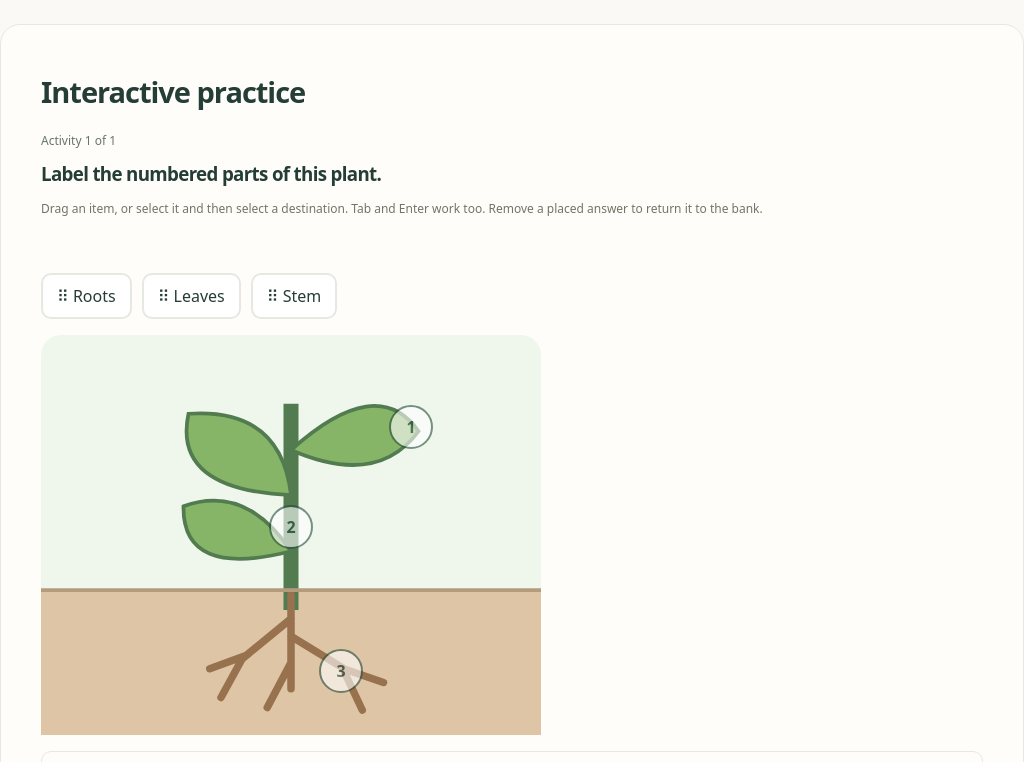
Scenario: reusable interactive practice › keeps diagram replacement available without showing placement prompts on filled labels
The width and height of the screenshot is (1024, 762).
What coordinates should you click on to do the following:
click the button "⠿ Leaves"
I would click on:
 (191, 296)
Its box is [142, 273, 241, 319].
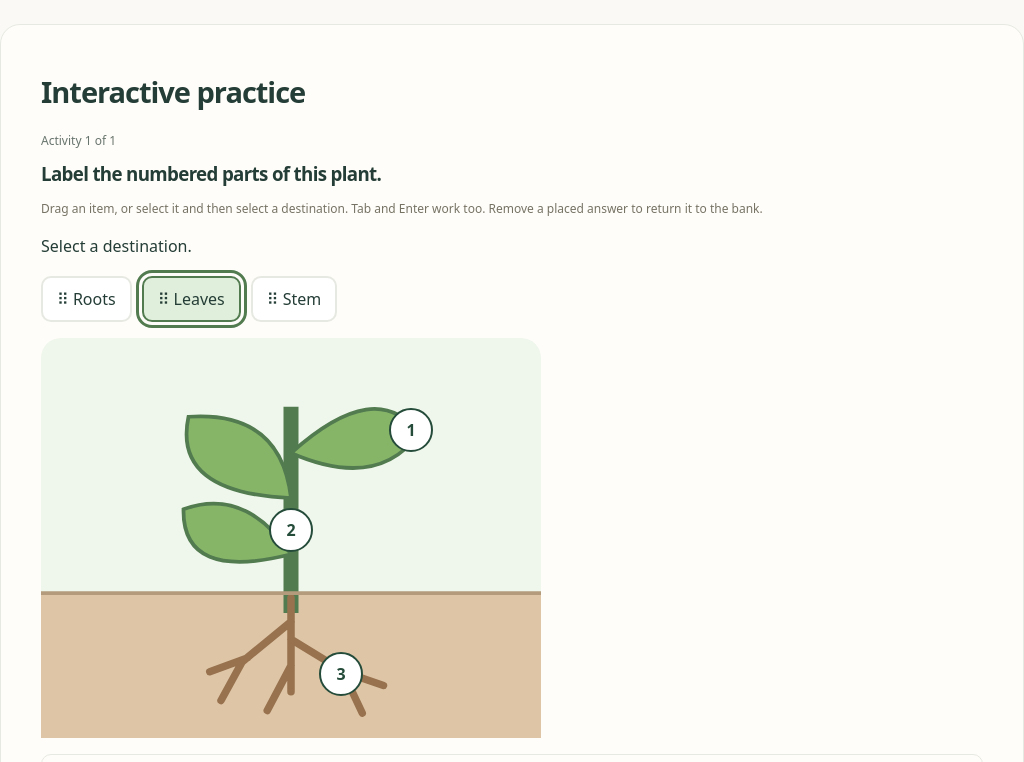
What coordinates should you click on to do the following:
click the button named "Place at 1"
I would click on:
 (411, 430)
Its box is [389, 408, 433, 452].
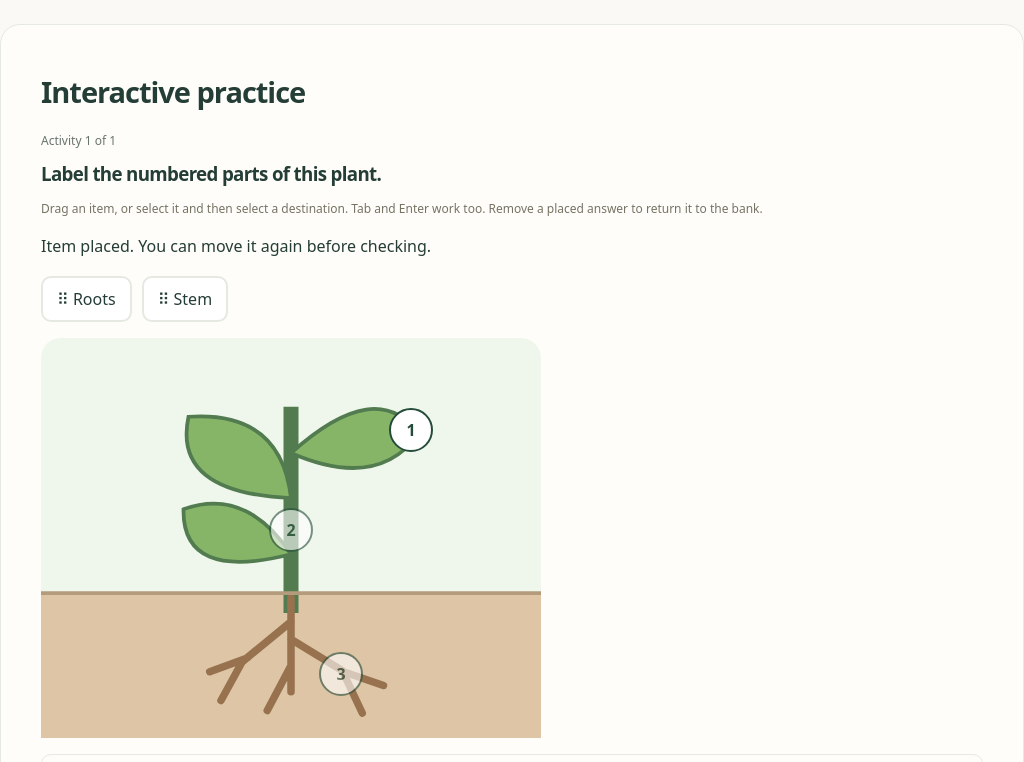
What coordinates should you click on to do the following:
click the button "⠿ Roots"
I would click on:
 (86, 299)
Its box is [41, 276, 132, 322].
(page scrolled)
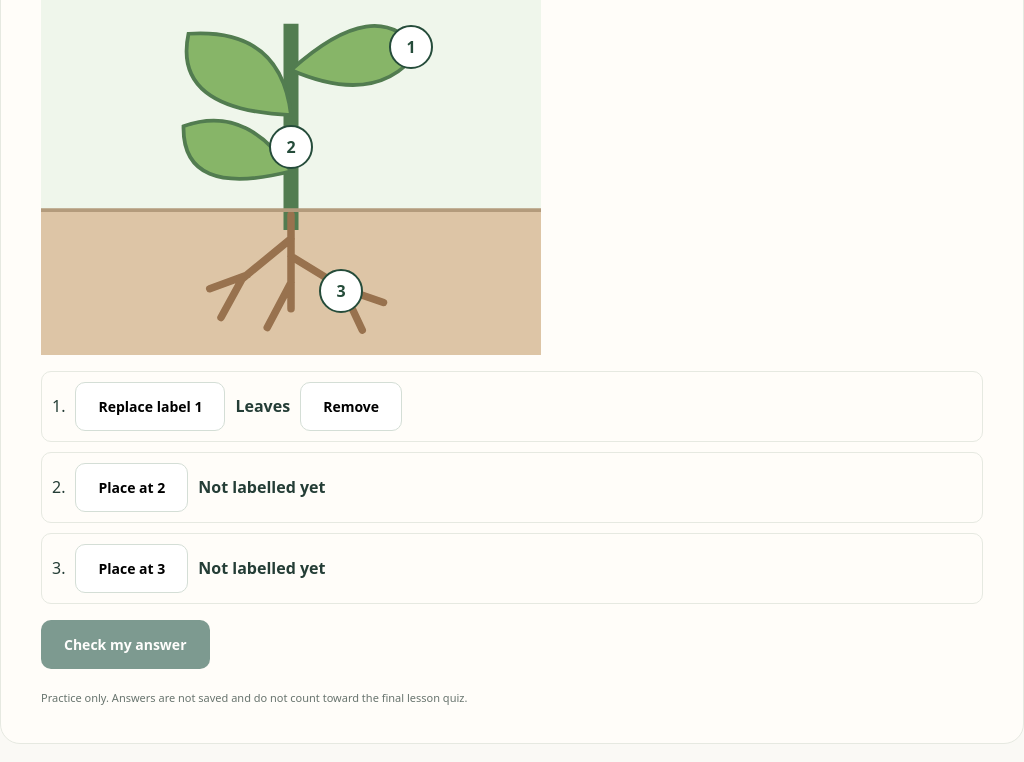
What coordinates should you click on to do the following:
click the button "Replace label 1"
I would click on:
 (150, 406)
Its box is [76, 382, 226, 431].
(page scrolled)
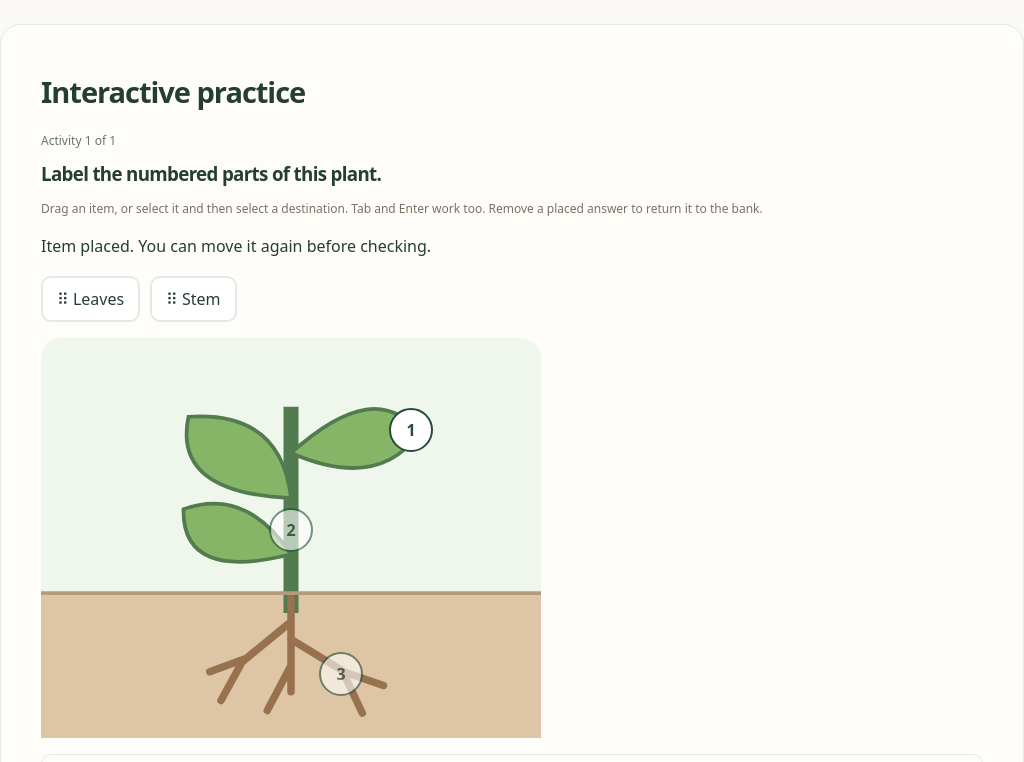
Expected: the button "⠿ Leaves" is shown, [41, 276, 140, 322]
Expected: the button "Replace label 1" is gone
